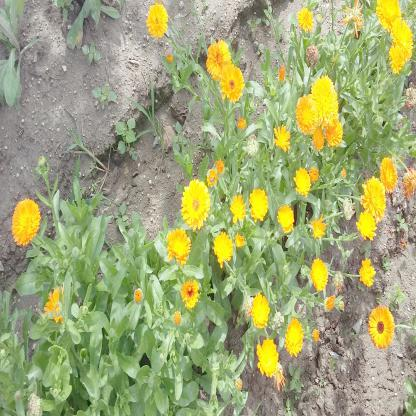marigold: (11, 198, 42, 246), (368, 305, 395, 351), (182, 179, 208, 226), (312, 78, 338, 124), (364, 179, 388, 220), (206, 41, 232, 77), (294, 95, 316, 134), (166, 229, 192, 261), (220, 67, 244, 101), (258, 340, 278, 378), (147, 2, 168, 37), (394, 20, 414, 56), (377, 0, 400, 29), (380, 156, 398, 193), (214, 232, 233, 265), (286, 320, 302, 354), (251, 296, 269, 326), (293, 168, 312, 196), (249, 189, 266, 220), (358, 212, 376, 240), (311, 259, 328, 288), (181, 280, 199, 306), (277, 207, 295, 232), (389, 44, 404, 74), (274, 122, 290, 149), (325, 121, 343, 145), (232, 192, 244, 222), (360, 260, 373, 287), (299, 8, 314, 31), (314, 129, 324, 150)
